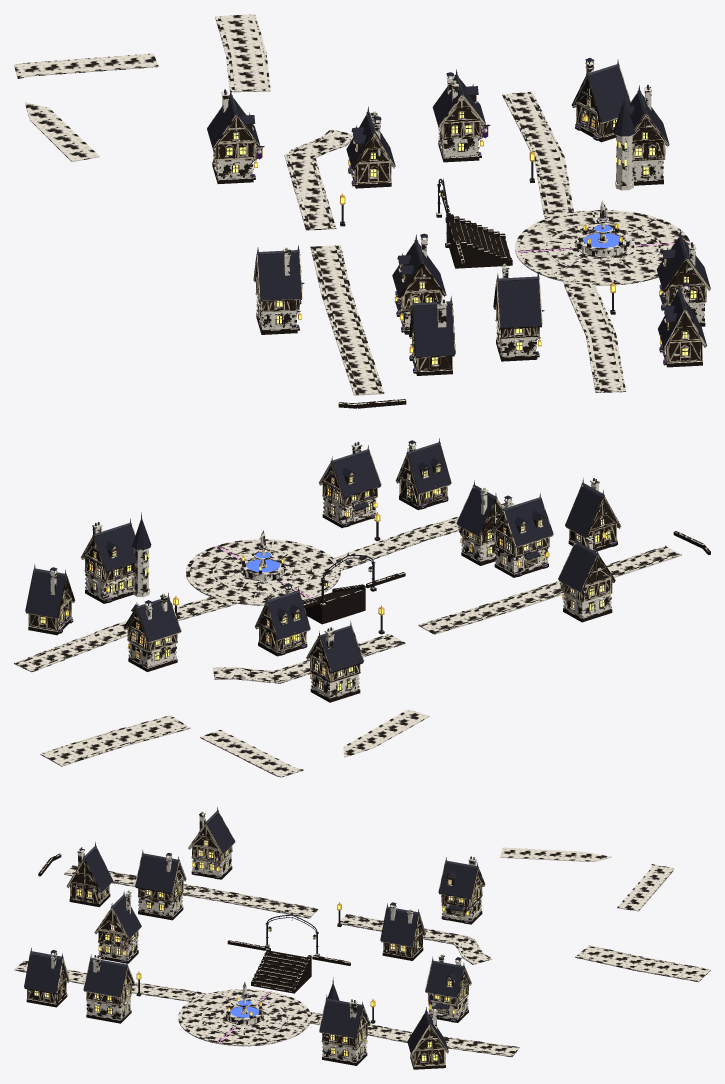
The model's file is ILHA3_05_VILLAGE_ac1e1a.fbx.
The picture shows the model from 3 angles, top to bottom: view 1: azimuth 30°, elevation 25°; view 2: azimuth 150°, elevation 25°; view 3: azimuth 270°, elevation 25°; orthographic projection. The views are drawn at different scales.
Parts seen in each view (by area): view 1: SG_Vil_Streets_P2__Stone_SG_Floor, SG_Vil_Plaza__Stone_Paving_SG, SG_Vil_Houses_P2W__Roof_SG_Slate, SG_Vil_Streets_P1__Stone_SG_Floor, SG_Vil_Houses_P1W__Roof_SG_Slate, SG_Vil_Streets_P3__Stone_SGVilCobble, SG_Vil_Houses_P1E__Roof_SG_Slate, SG_Vil_Houses_P1E__Wood_SG_Dark, SG_Vil_Streets_P2__Stone_SGVilCobble, SG_Vil_Houses_P1W__Wood_SG_Dark, SG_Vil_Houses_P2W__Wood_SG_Dark, SG_Vil_Houses_P2E__Wood_SG_Dark (+19 smaller); view 2: SG_Vil_Streets_P2__Stone_SG_Floor, SG_Vil_Plaza__Stone_Paving_SG, SG_Vil_Houses_P1E__Roof_SG_Slate, SG_Vil_Houses_P1W__Roof_SG_Slate, SG_Vil_Houses_P2W__Roof_SG_Slate, SG_Vil_Houses_P2W__Wood_SG_Dark, SG_Vil_Streets_P3__Stone_SGVilCobble, SG_Vil_Houses_P1E__Wood_SG_Dark, SG_Vil_Houses_P1W__Wood_SG_Dark, SG_Vil_Streets_P1__Stone_SG_Floor, SG_Vil_Houses_P2E__Roof_SG_Slate, SG_Vil_Streets_P2__Stone_SGVilCobble (+24 smaller); view 3: SG_Vil_Streets_P2__Stone_SG_Floor, SG_Vil_Plaza__Stone_Paving_SG, SG_Vil_Houses_P1W__Roof_SG_Slate, SG_Vil_Houses_P1E__Roof_SG_Slate, SG_Vil_Houses_P2W__Roof_SG_Slate, SG_Vil_Houses_P2W__Wood_SG_Dark, SG_Vil_Streets_P3__Stone_SGVilCobble, SG_Vil_Houses_P1E__Wood_SG_Dark, SG_Vil_Houses_P1W__Wood_SG_Dark, SG_Vil_Houses_P2E__Roof_SG_Slate, SG_Vil_Streets_P2__Stone_SGVilCobble, SG_Vil_Streets_P1__Stone_SG_Floor (+20 smaller).
Boxes of the visible parts, x1,y1,x2,y2 form: SG_Vil_Streets_P2__Stone_SG_Floor: [220, 14, 378, 394]; SG_Vil_Plaza__Stone_Paving_SG: [515, 212, 684, 285]; SG_Vil_Houses_P2W__Roof_SG_Slate: [255, 233, 454, 357]; SG_Vil_Streets_P1__Stone_SG_Floor: [507, 92, 620, 392]; SG_Vil_Houses_P1W__Roof_SG_Slate: [494, 238, 710, 348]; SG_Vil_Streets_P3__Stone_SGVilCobble: [14, 53, 158, 161]; SG_Vil_Houses_P1E__Roof_SG_Slate: [432, 58, 669, 145]; SG_Vil_Houses_P1E__Wood_SG_Dark: [433, 66, 668, 175]; SG_Vil_Streets_P2__Stone_SGVilCobble: [215, 14, 383, 395]; SG_Vil_Houses_P1W__Wood_SG_Dark: [493, 237, 710, 362]; SG_Vil_Houses_P2W__Wood_SG_Dark: [253, 242, 455, 371]; SG_Vil_Houses_P2E__Wood_SG_Dark: [207, 97, 394, 183]; SG_Vil_Streets_P2__Stone_SG_Floor: [43, 547, 678, 764]; SG_Vil_Plaza__Stone_Paving_SG: [186, 541, 340, 605]; SG_Vil_Houses_P1E__Roof_SG_Slate: [25, 518, 181, 642]; SG_Vil_Houses_P1W__Roof_SG_Slate: [321, 440, 502, 536]; SG_Vil_Houses_P2W__Roof_SG_Slate: [493, 486, 618, 592]; SG_Vil_Houses_P2W__Wood_SG_Dark: [490, 485, 621, 611]; SG_Vil_Streets_P3__Stone_SGVilCobble: [200, 709, 429, 777]; SG_Vil_Houses_P1E__Wood_SG_Dark: [25, 524, 181, 661]; SG_Vil_Houses_P1W__Wood_SG_Dark: [319, 444, 503, 555]; SG_Vil_Streets_P1__Stone_SG_Floor: [17, 503, 515, 669]; SG_Vil_Houses_P2E__Roof_SG_Slate: [257, 583, 363, 672]; SG_Vil_Streets_P2__Stone_SGVilCobble: [40, 547, 681, 766]; SG_Vil_Streets_P2__Stone_SG_Floor: [66, 866, 709, 979]; SG_Vil_Plaza__Stone_Paving_SG: [178, 991, 309, 1046]; SG_Vil_Houses_P1W__Roof_SG_Slate: [24, 897, 141, 997]; SG_Vil_Houses_P1E__Roof_SG_Slate: [319, 957, 470, 1054]; SG_Vil_Houses_P2W__Roof_SG_Slate: [67, 813, 235, 893]; SG_Vil_Houses_P2W__Wood_SG_Dark: [67, 812, 234, 911]; SG_Vil_Streets_P3__Stone_SGVilCobble: [500, 847, 673, 911]; SG_Vil_Houses_P1E__Wood_SG_Dark: [319, 962, 471, 1066]; SG_Vil_Houses_P1W__Wood_SG_Dark: [24, 896, 141, 1014]; SG_Vil_Houses_P2E__Roof_SG_Slate: [380, 863, 483, 946]; SG_Vil_Streets_P2__Stone_SGVilCobble: [64, 866, 710, 982]; SG_Vil_Streets_P1__Stone_SG_Floor: [16, 962, 517, 1054].
Size of the model in its own units: 180 by 35.03 by 272.
17 materials, 4 textured.
